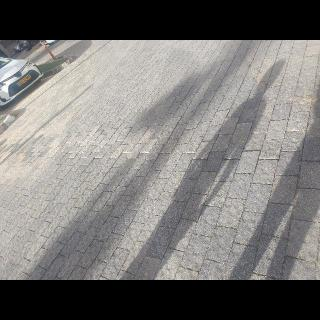LicensePlate: (18, 74, 32, 86)
